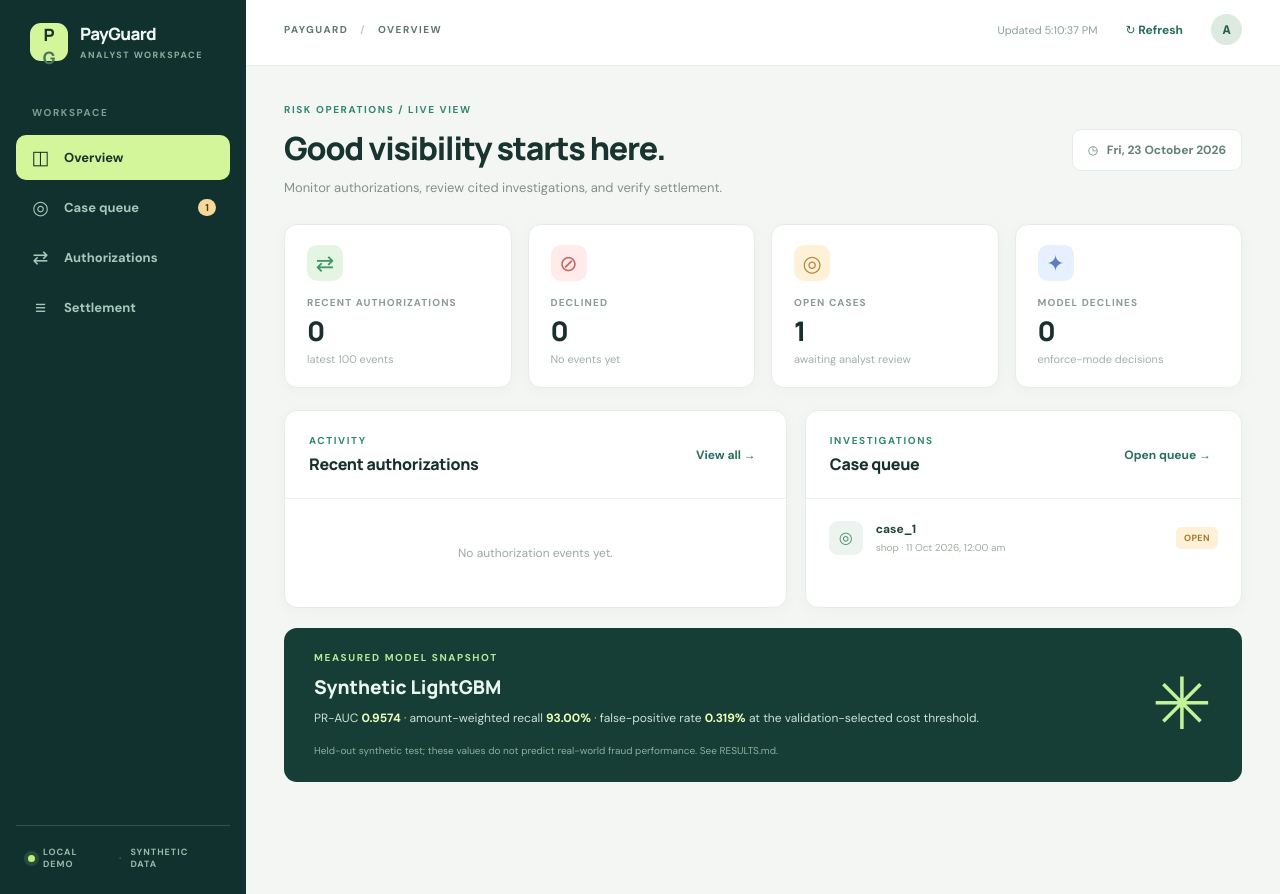
lead can inspect evidence, draft a cited case, and record review without a card action
Click the button "◎ case_1 shop · 11 Oct 2026, 12:00 am OPEN" at (846, 538), box top-left (829, 501), bottom-right (1218, 574)
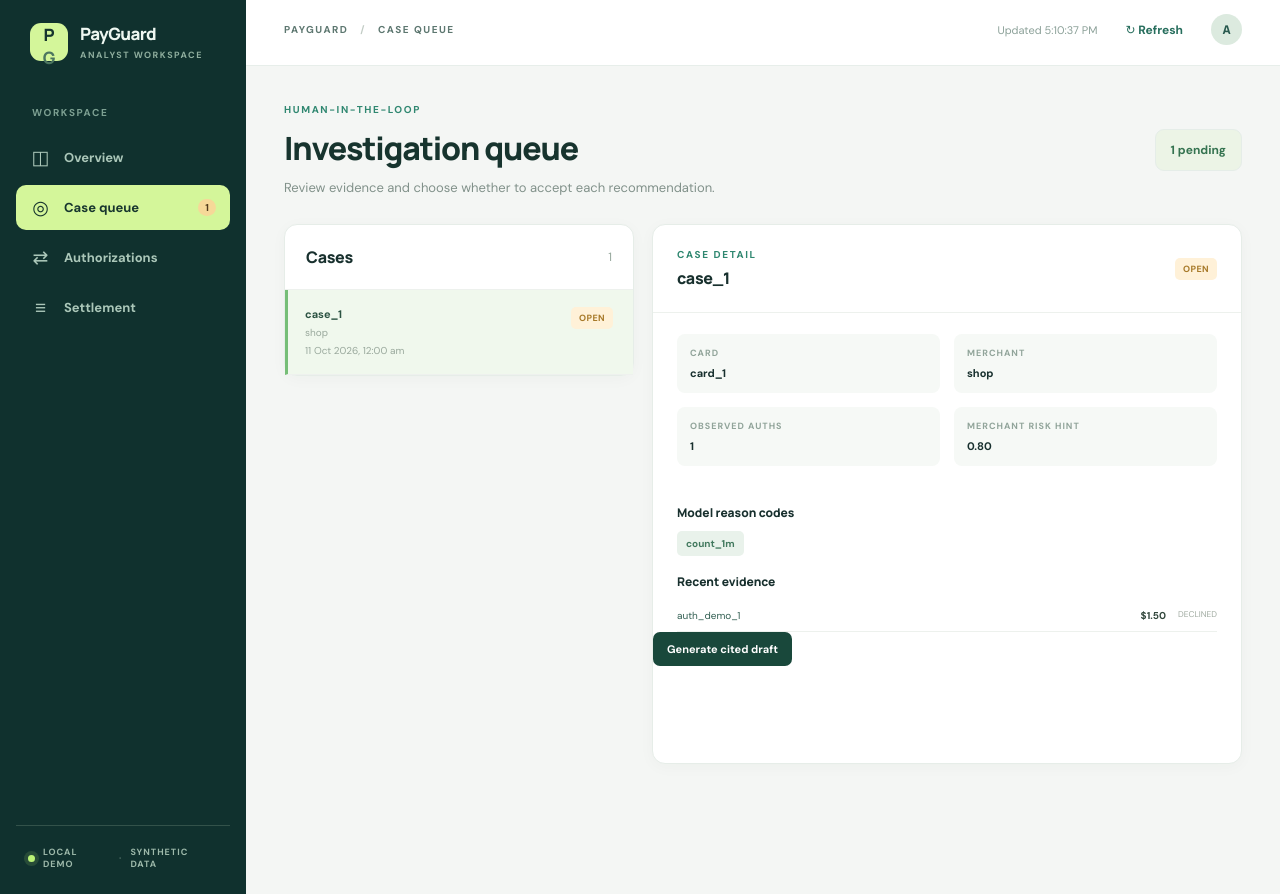
Check: the text "auth_demo_1" is shown, box top-left (677, 609), bottom-right (740, 622)
Click the button "Generate cited draft" at (722, 649), box top-left (653, 632), bottom-right (792, 666)
(page scrolled)
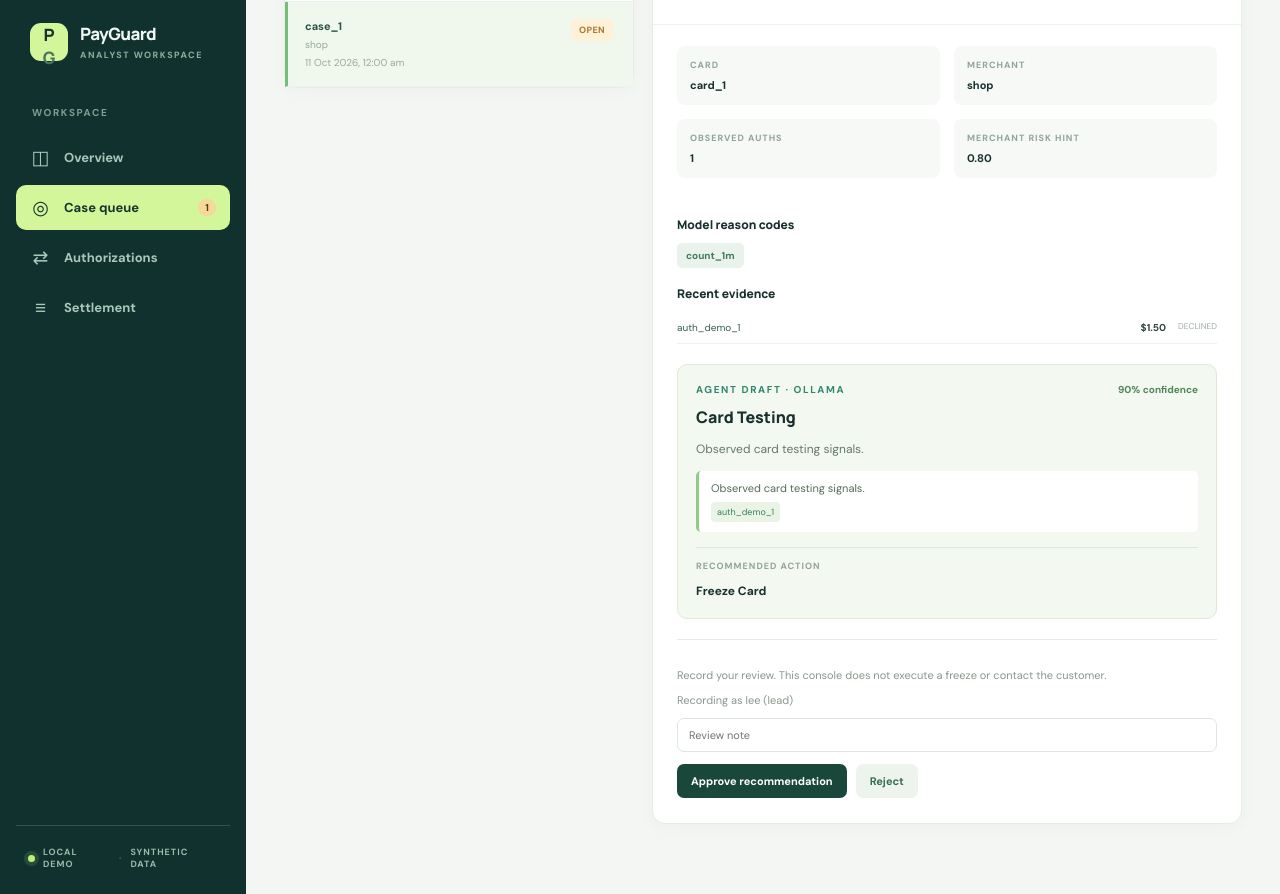
Check: the text "Observed card testing signals." is shown 2 times, box top-left (696, 441), bottom-right (864, 457); top-left (696, 471), bottom-right (1198, 532)
Check: the button "auth_demo_1" is shown, box top-left (711, 502), bottom-right (780, 522)
Check: the text "Recording as lee (lead)" is shown, box top-left (677, 693), bottom-right (793, 707)
Click the button "Approve recommendation" at (762, 781), box top-left (677, 764), bottom-right (847, 798)
(page scrolled)
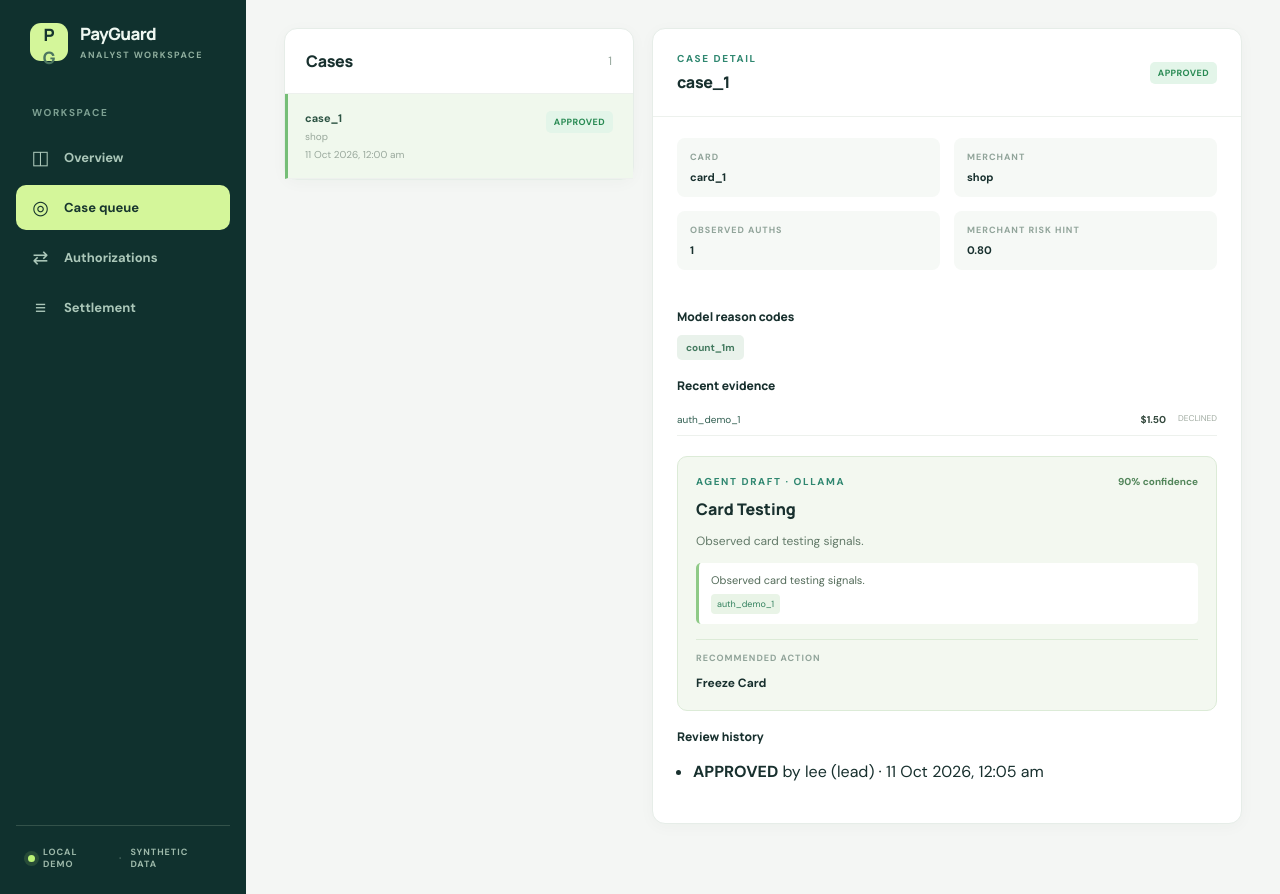
Check: the button "Approve recommendation" is gone
Check: the list named "Review history" shows "APPROVED by lee (lead)", box top-left (693, 761), bottom-right (1044, 782)
